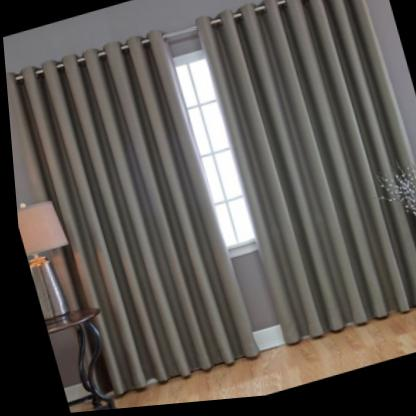Curtains: (0, 0, 416, 412)
